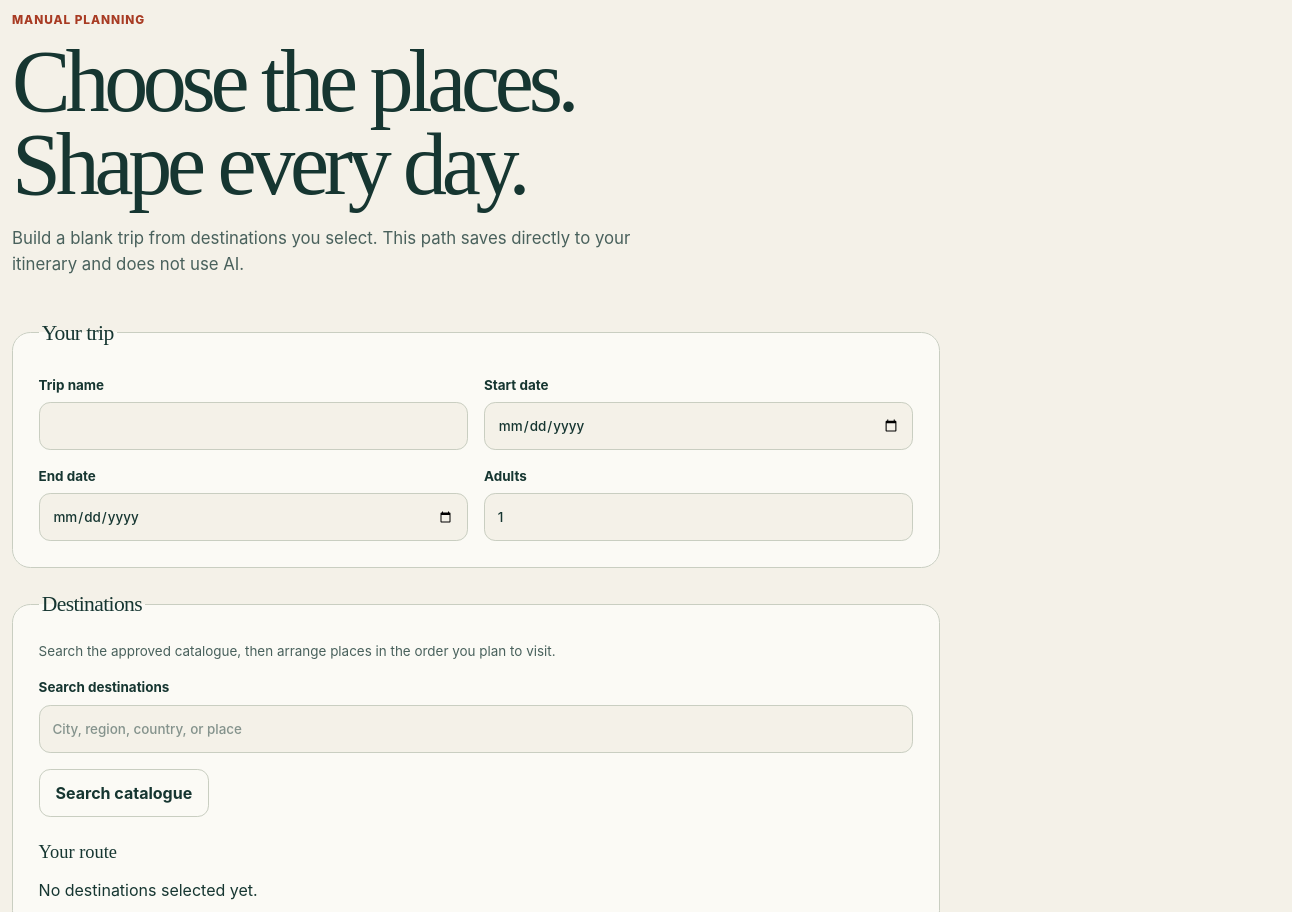
Test: GuidedTripPlanner › preserves manual input when destination search is unavailable
Type "Unfinished Japan trip" into the field labelled "Trip name".
click(253, 426); type("Unfinished Japan trip")  # box [39,402,468,450]
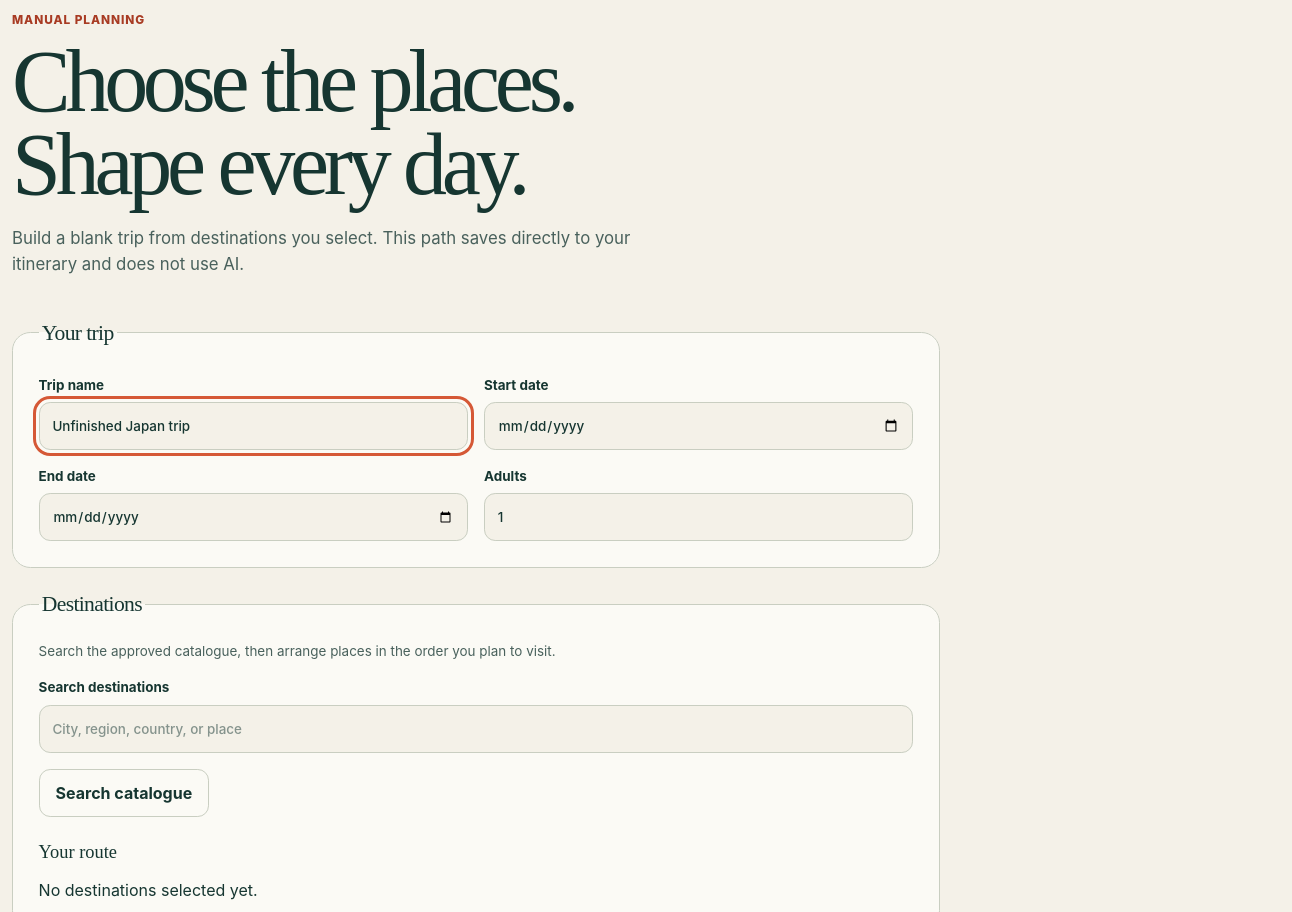
Type "Kyoto station area" into the search field labelled "Search destinations".
click(476, 729); type("Kyoto station area")  # box [39,705,913,753]
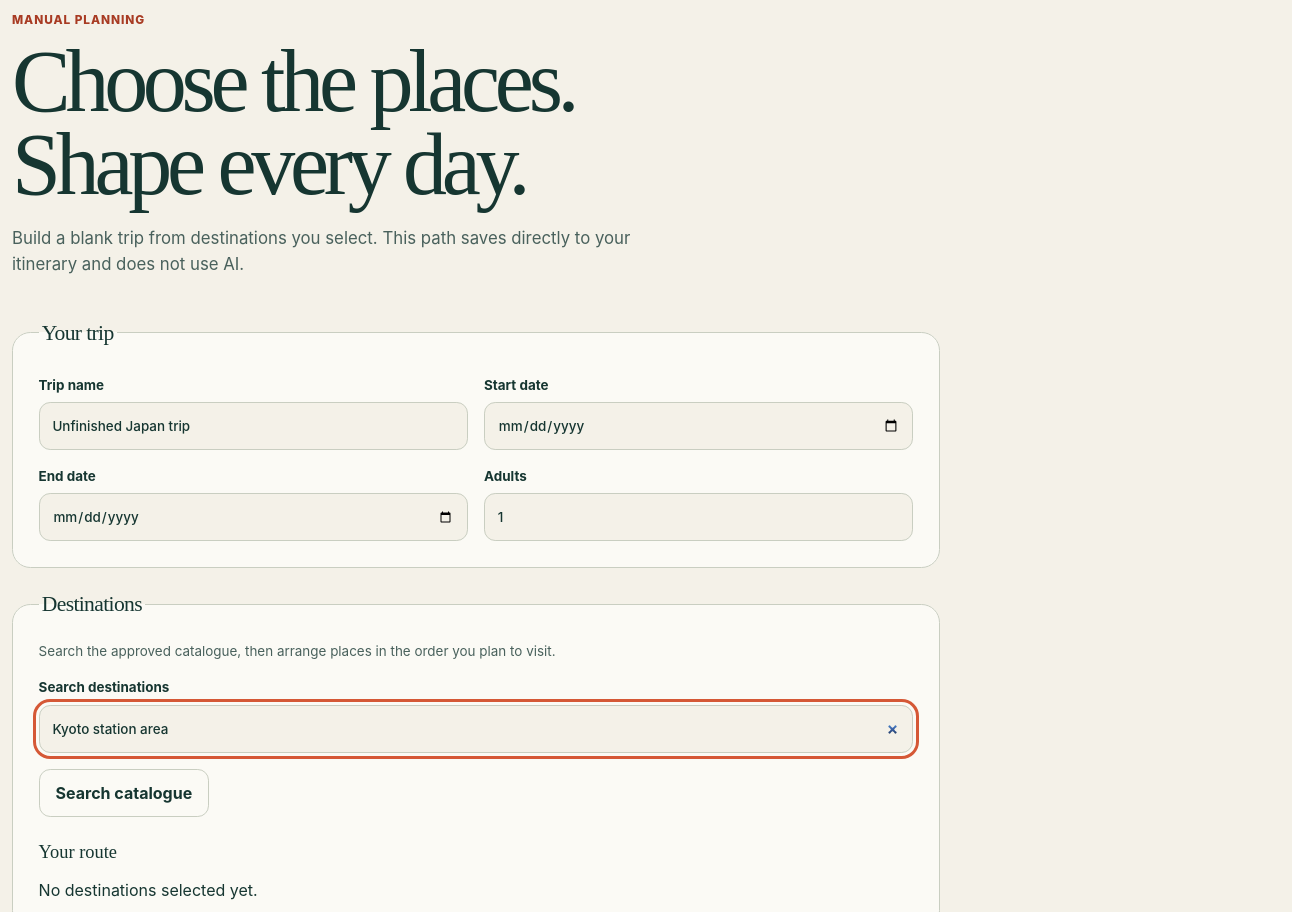
Click the button "Search catalogue".
click(124, 793)  # box [39,769,209,817]
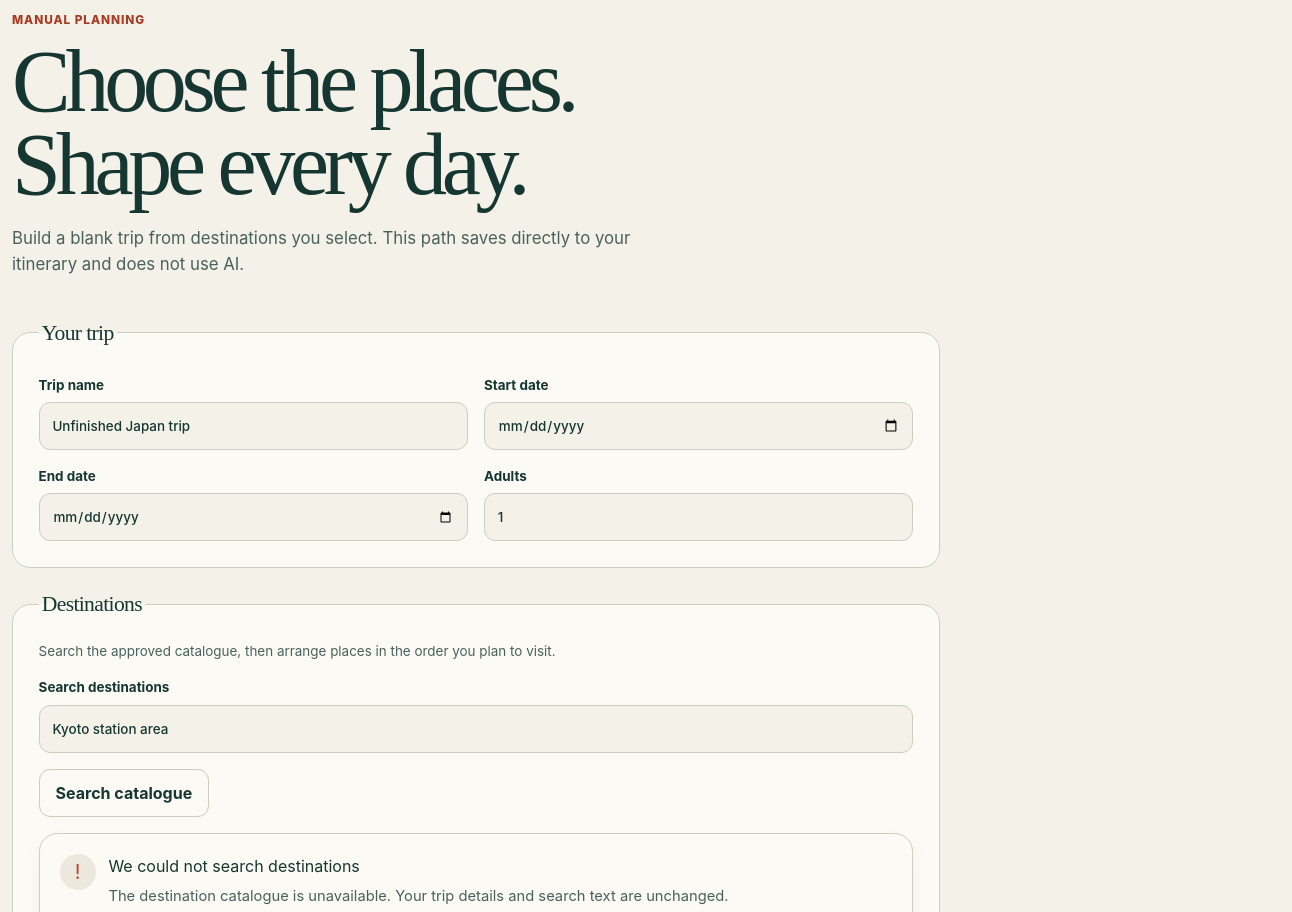
Now the heading "We could not search destinations" is shown, box [108,856,360,876]
